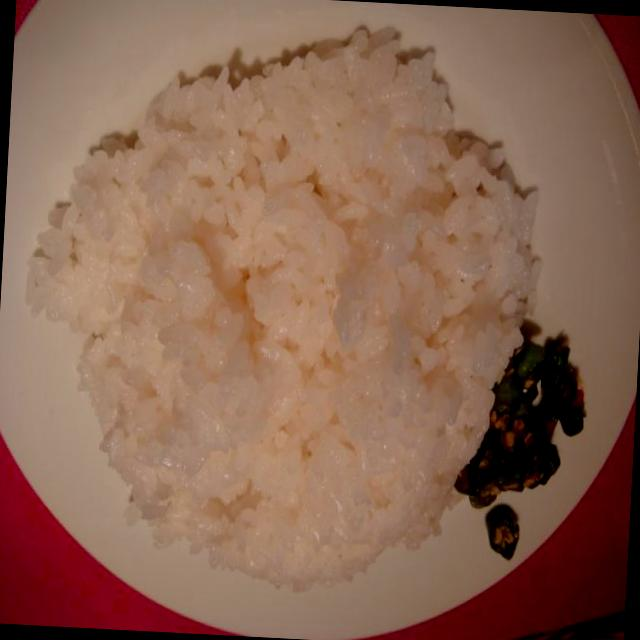Rice: (47, 40, 518, 606)
